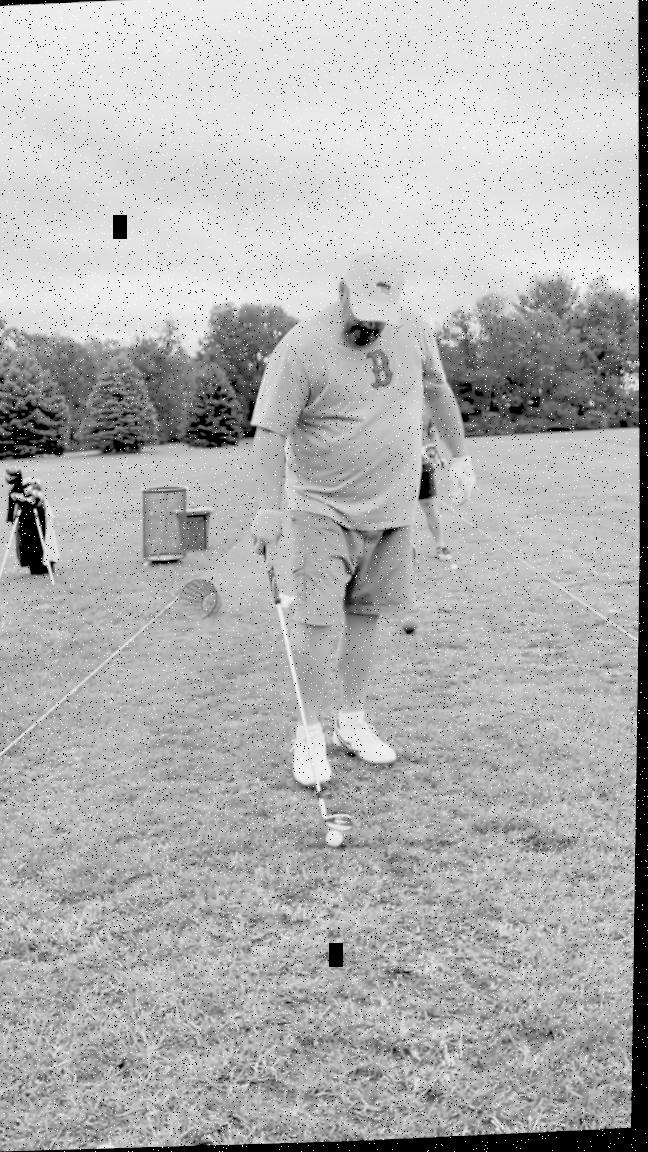ClubHead: (320, 791, 363, 847)
